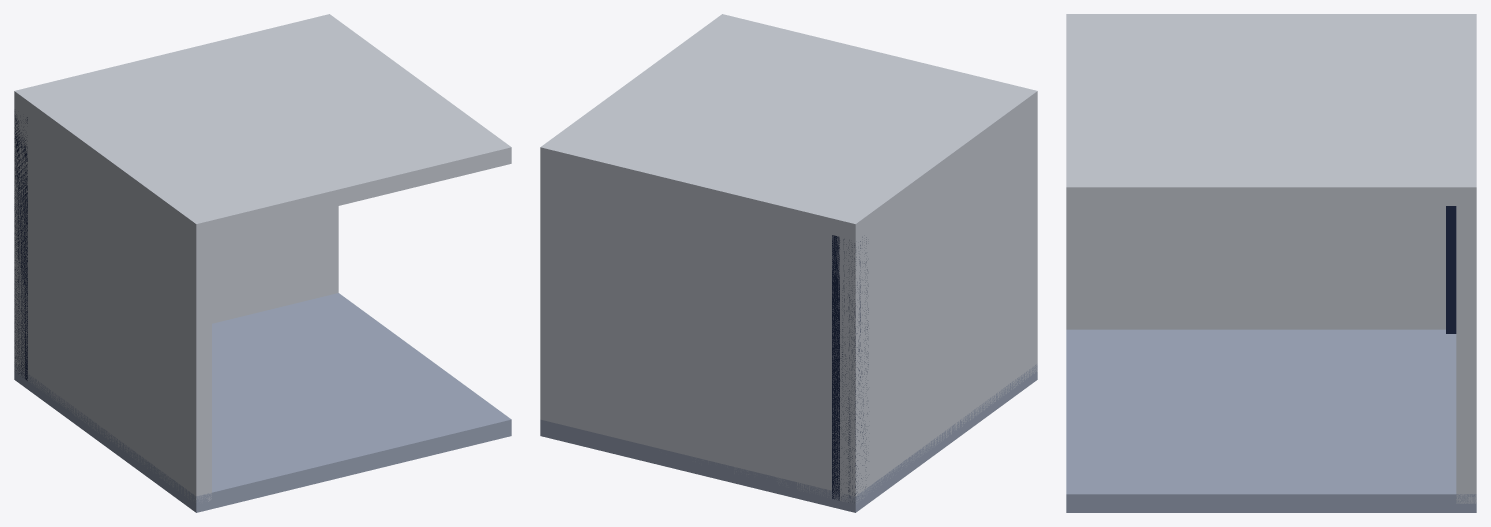
The model's file is stationpack-corridor-corner.glb.
The picture shows the model from 3 angles, left to right: view 1: azimuth 30°, elevation 25°; view 2: azimuth 150°, elevation 25°; view 3: azimuth 270°, elevation 25°; orthographic projection. The views are drawn at different scales.
Parts seen in each view (by area): view 1: corridor_corner; view 2: corridor_corner; view 3: corridor_corner.
Boxes of the visible parts, x1=… form: corridor_corner: x1=14, y1=14, x2=511, y2=512; corridor_corner: x1=540, y1=14, x2=1037, y2=512; corridor_corner: x1=1066, y1=14, x2=1476, y2=512.
Bounding box in the file's own units: 4 × 3.5 × 4.
